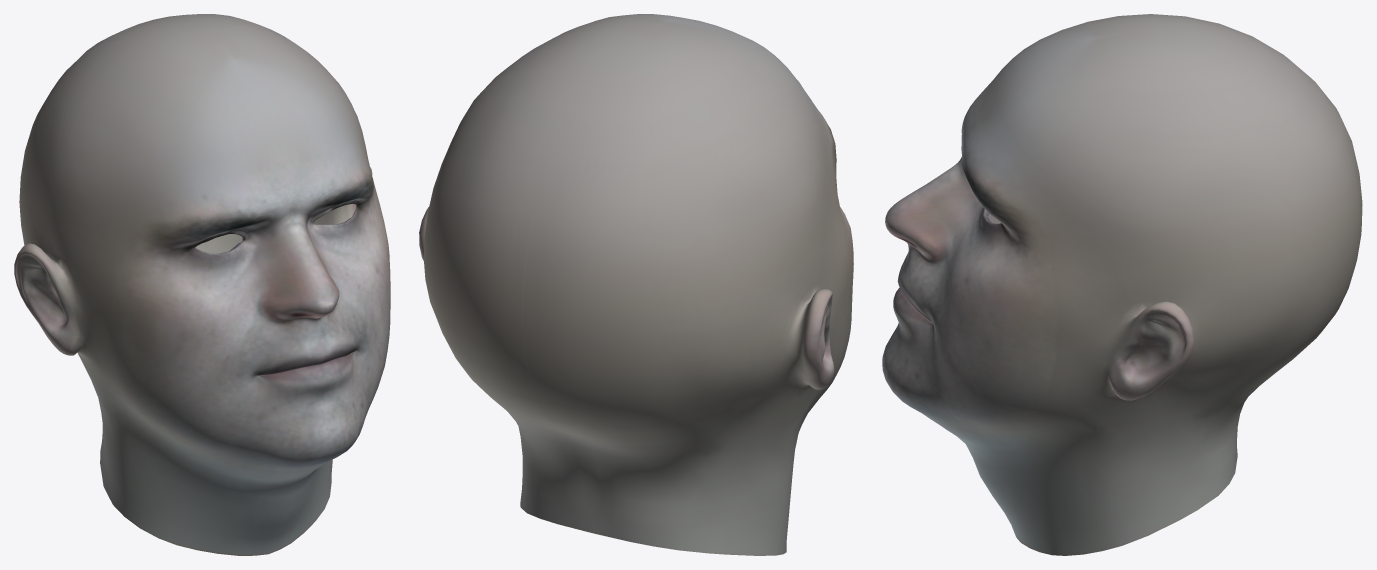
3 views of the same model, side by side, from view 1: azimuth 30°, elevation 25°; view 2: azimuth 150°, elevation 25°; view 3: azimuth 270°, elevation 25° (orthographic). The views are drawn at different scales.
Visible parts, largest first — view 1: FaceGen; view 2: FaceGen; view 3: FaceGen.
Boxes of the visible parts, bbox=[...] form: FaceGen: bbox=[14, 14, 390, 555]; FaceGen: bbox=[419, 14, 853, 555]; FaceGen: bbox=[882, 14, 1362, 555].
Size of the model in its own units: 213 by 277 by 240.
1 material, 1 textured.
